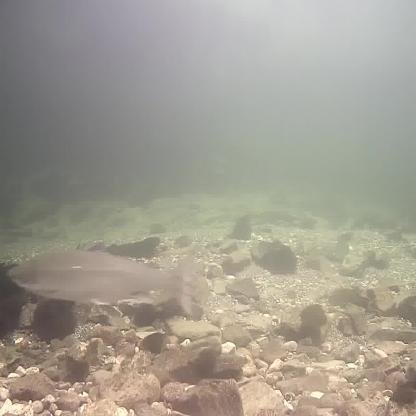salmon: (4, 237, 200, 319)
